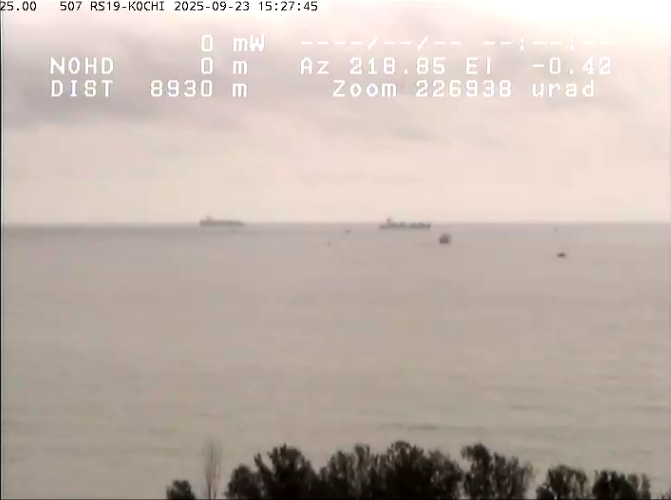CARGO_SHIPS: (371, 209, 435, 235)
FISHING_BOAT: (554, 247, 577, 260)
TANKER: (186, 203, 256, 237)
